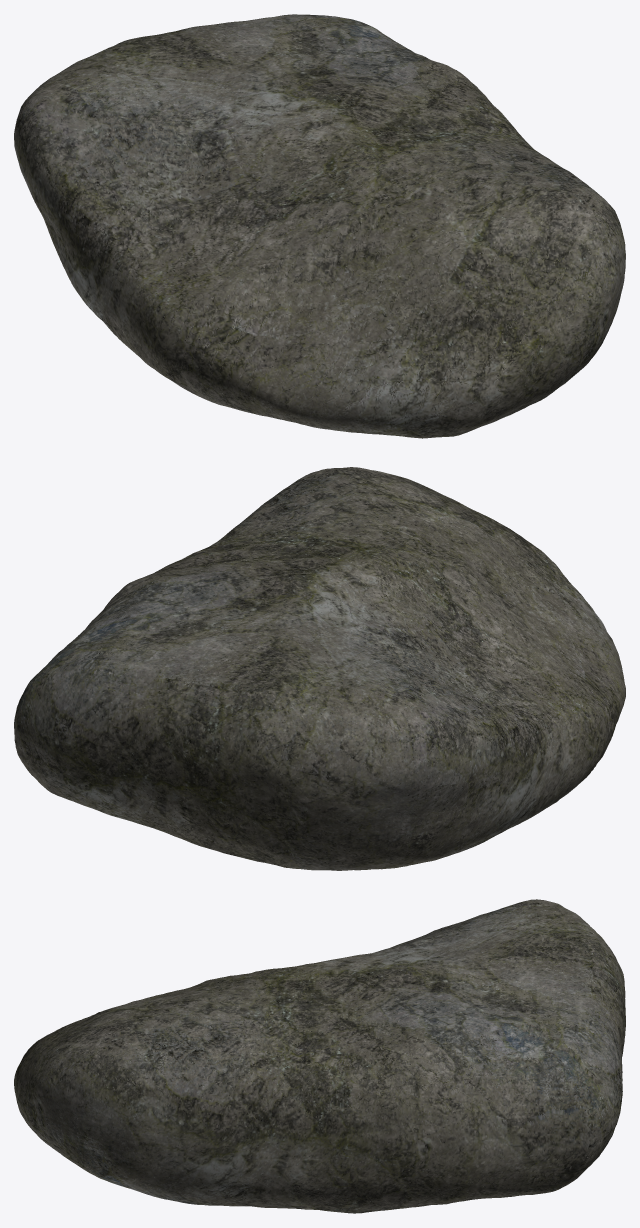
File: round_rock2.fbx
3 views of the same model, one above another, from view 1: azimuth 30°, elevation 25°; view 2: azimuth 150°, elevation 25°; view 3: azimuth 270°, elevation 25° (orthographic). The views are drawn at different scales.
Visible parts, largest first — view 1: rock.003; view 2: rock.003; view 3: rock.003.
Part boxes in pixels (x1=…): rock.003: x1=14, y1=14, x2=625, y2=438; rock.003: x1=14, y1=467, x2=625, y2=870; rock.003: x1=14, y1=899, x2=625, y2=1213.
Bounding box in the file's own units: 49.81 × 27.08 × 70.08.
